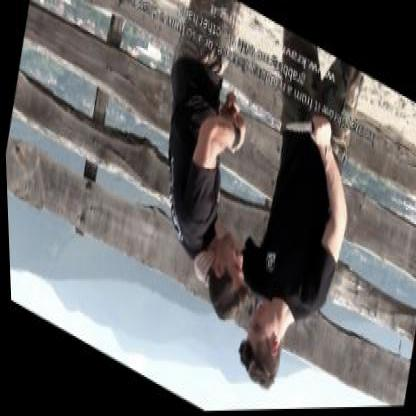knife: (280, 95, 334, 161)
